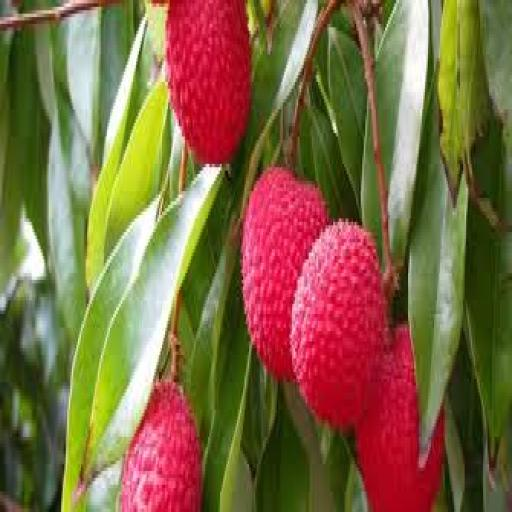lychee: (292, 222, 386, 430), (242, 168, 328, 378), (357, 325, 444, 511), (167, 0, 250, 163), (121, 383, 201, 511)
